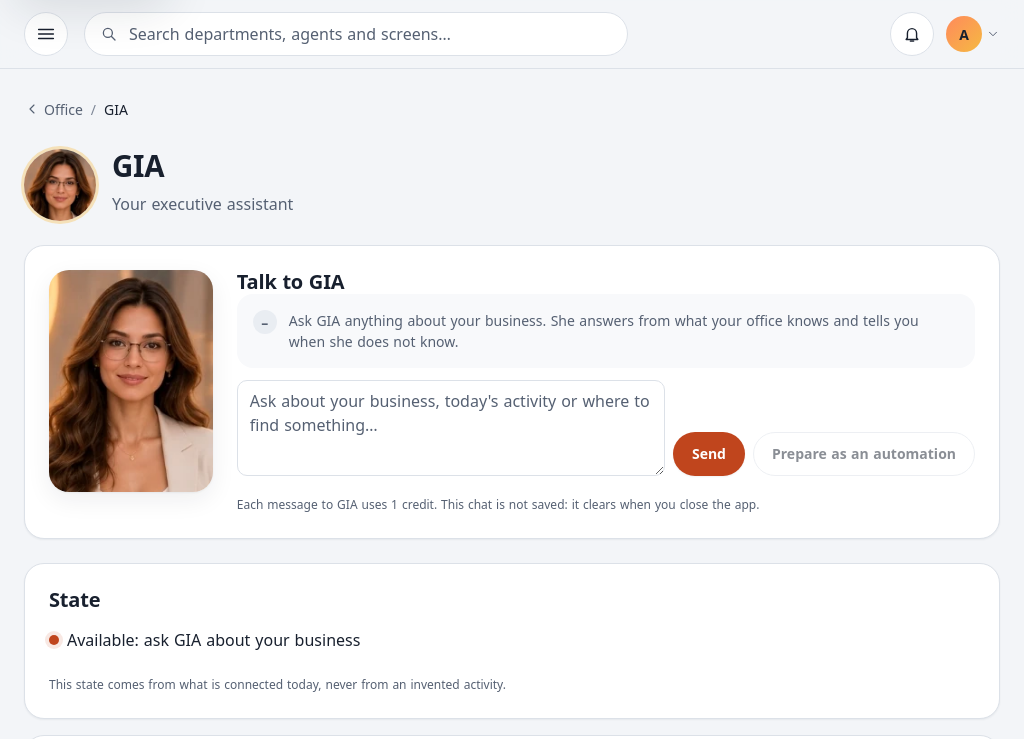
Test: GIA drafts a workflow in her chat (ADR-0171) › prepares it from the message, and opens it in the advanced editor on Automations
Replace the text in the text box named "Your message to GIA" with "Recupera a los clientes inactivos": (451, 428) x1=237 y1=380 x2=665 y2=476
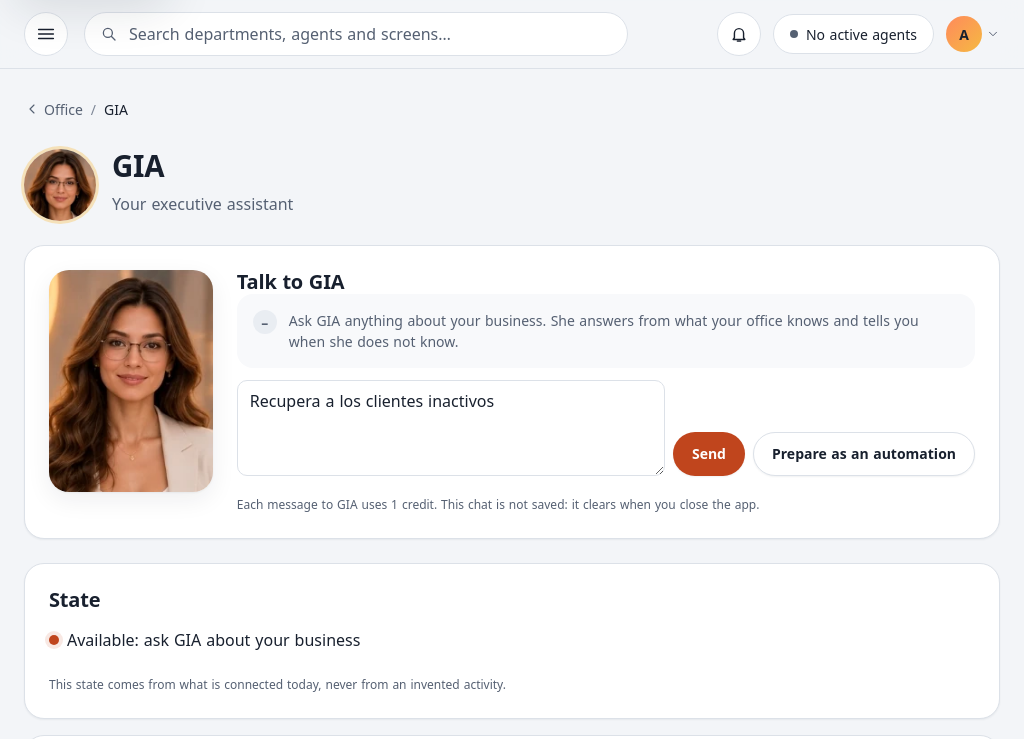
Click the button "Prepare as an automation": (864, 454) x1=753 y1=432 x2=975 y2=476
(page scrolled)
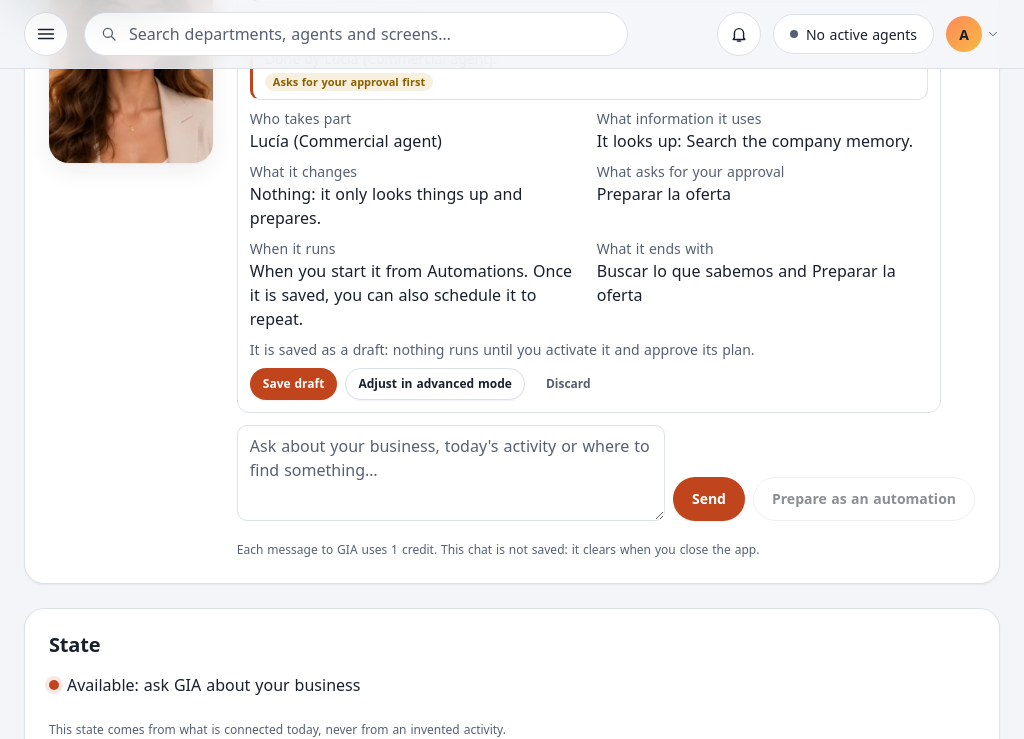
Click the button "Adjust in advanced mode": (435, 384) x1=345 y1=368 x2=525 y2=400
(page scrolled)
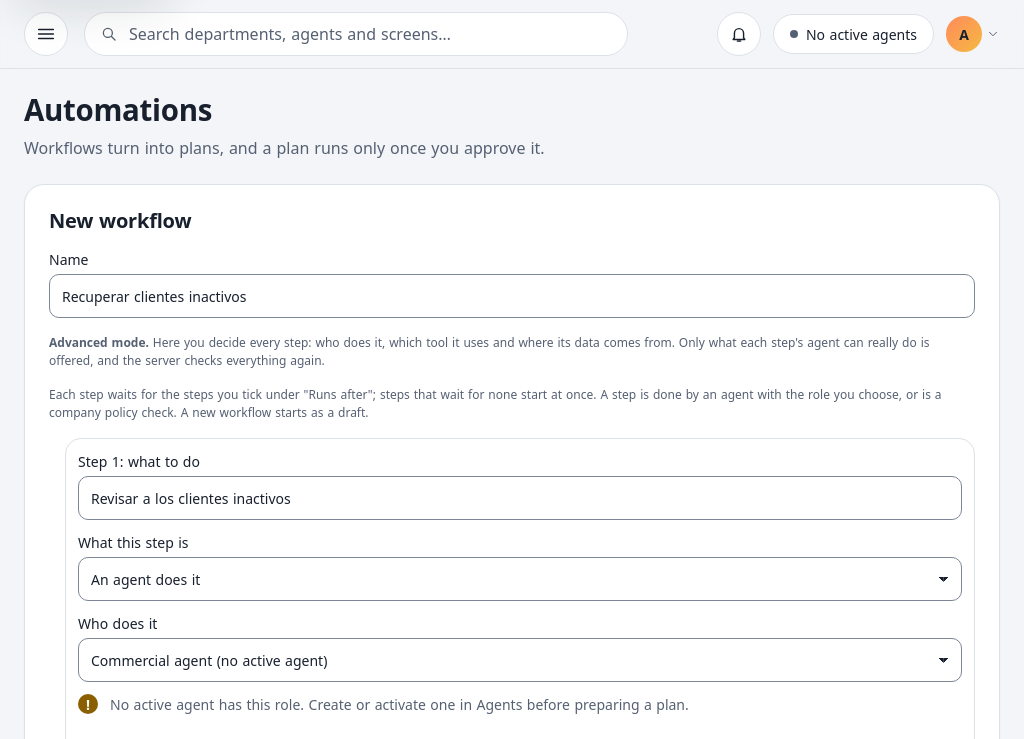
Expected: the field labelled "Name" holds "Recuperar clientes inactivos", x1=49 y1=274 x2=975 y2=318
